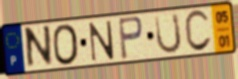C: (183, 8, 214, 54)
N: (25, 23, 54, 72), (88, 19, 116, 63)
O: (51, 22, 81, 67)
P: (116, 15, 145, 61)
U: (154, 11, 184, 56)
